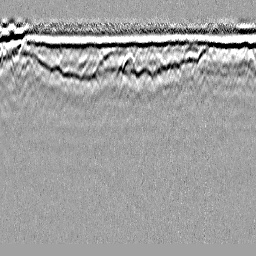cavity: (121, 52, 138, 77)
